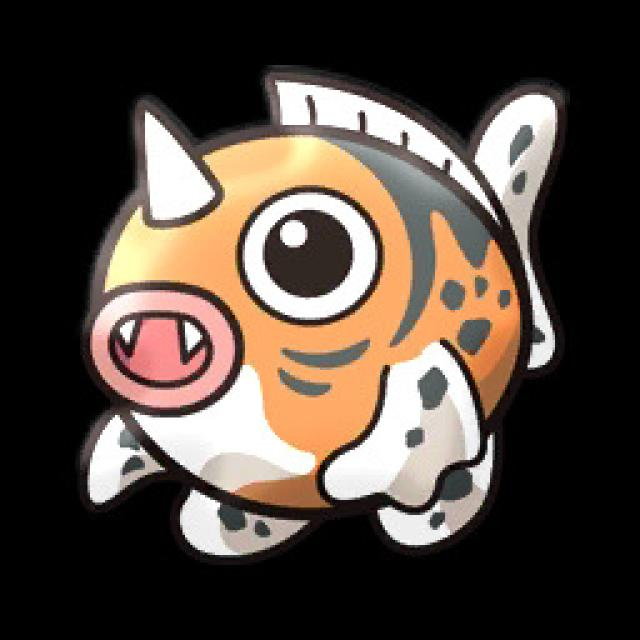Seaking: (70, 56, 590, 586)
